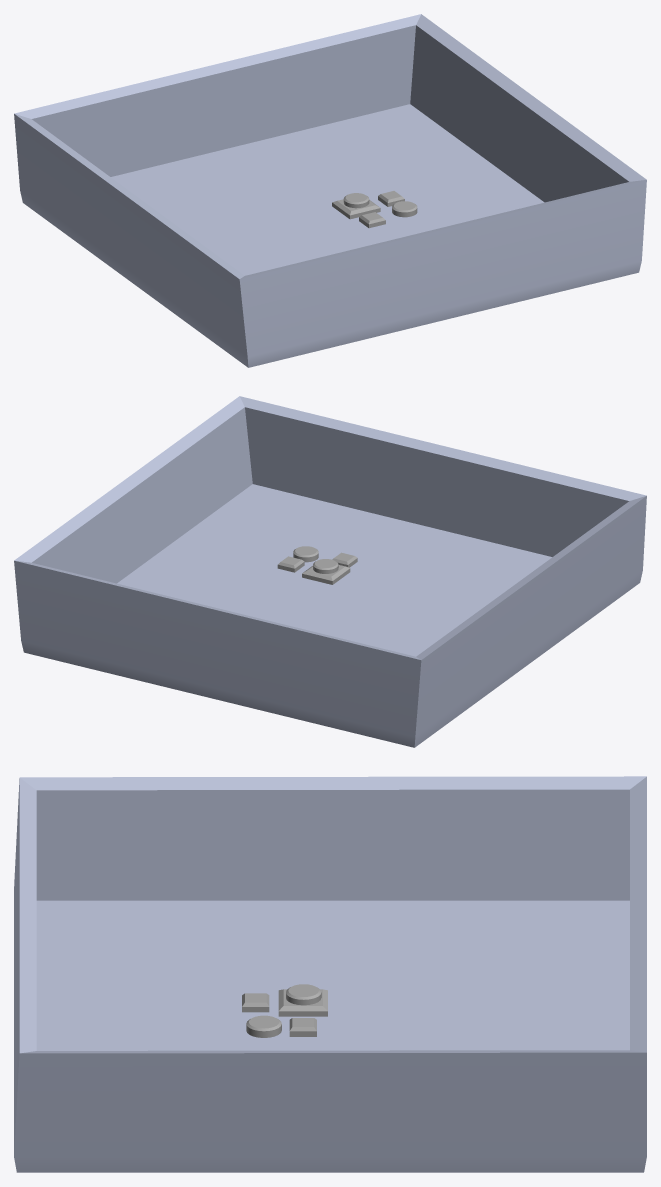
The model's file is PuzzleBox.fbx.
3 views of the same model, one above another, from view 1: azimuth 30°, elevation 25°; view 2: azimuth 150°, elevation 25°; view 3: azimuth 270°, elevation 25° (orthographic). The views are drawn at different scales.
Visible parts, largest first — view 1: Box; view 2: Box, Square_button2; view 3: Box, Square_button2, Round_BUtton1, Round_BUtton.
Part boxes in pixels (<box>): Box: <box>14,14,646,367</box>; Box: <box>14,396,646,747</box>; Square_button2: <box>302,565,350,584</box>; Box: <box>14,776,646,1172</box>; Square_button2: <box>278,989,327,1016</box>; Round_BUtton1: <box>246,1015,281,1037</box>; Round_BUtton: <box>286,984,321,1005</box>.
Bounding box in the file's own units: 23.89 × 5.07 × 23.12.
